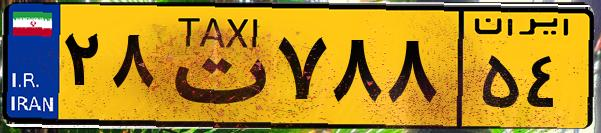2: (57, 26, 110, 100)
4: (525, 38, 570, 115)
5: (475, 38, 525, 113)
7: (270, 28, 330, 110)
8: (385, 28, 445, 110), (330, 28, 385, 110), (110, 28, 158, 98)
ت: (158, 12, 270, 120)
